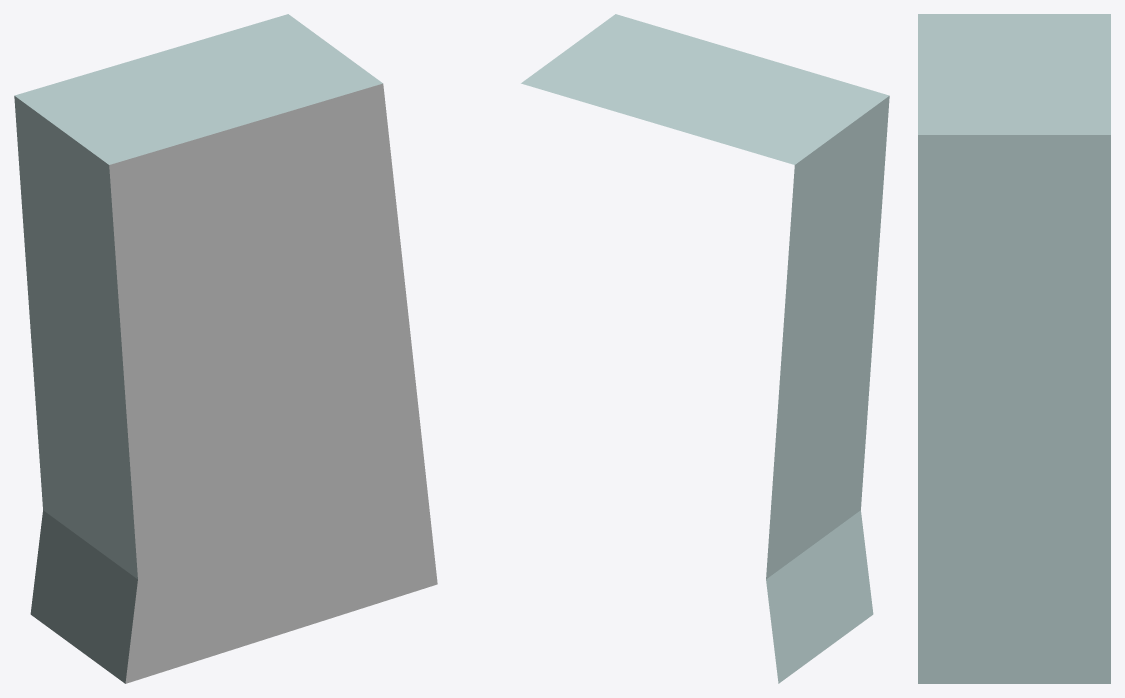
3 renders of one model, left to right at view 1: azimuth 30°, elevation 25°; view 2: azimuth 150°, elevation 25°; view 3: azimuth 270°, elevation 25°, orthographic.
Visible parts, largest first — view 1: 0_2_3_3_3_0_3_0_0; view 2: 0_2_3_3_3_0_3_0_0; view 3: 0_2_3_3_3_0_3_0_0.
Boxes of the visible parts, <box> form: 0_2_3_3_3_0_3_0_0: <box>14,14,437,683</box>; 0_2_3_3_3_0_3_0_0: <box>521,14,889,683</box>; 0_2_3_3_3_0_3_0_0: <box>918,14,1110,683</box>.
Size of the model in its own units: 5.99 by 9.37 by 3.
